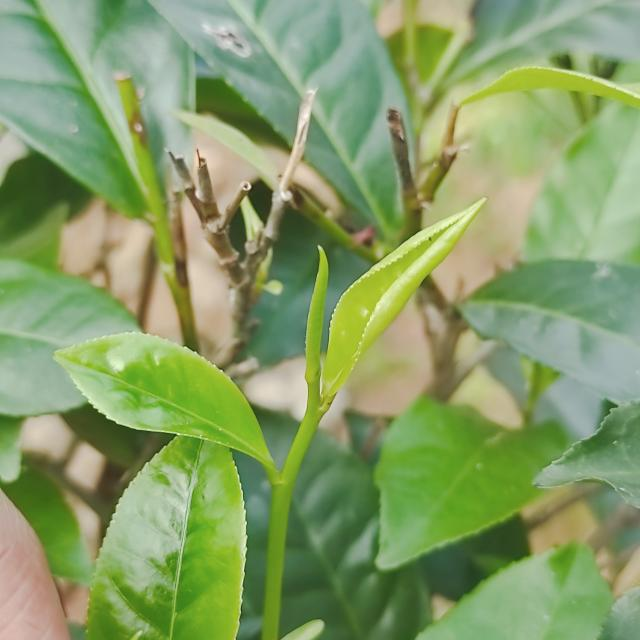unopened_leaf: (296, 240, 339, 408)
